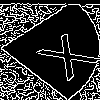X: (24, 25, 100, 81)
